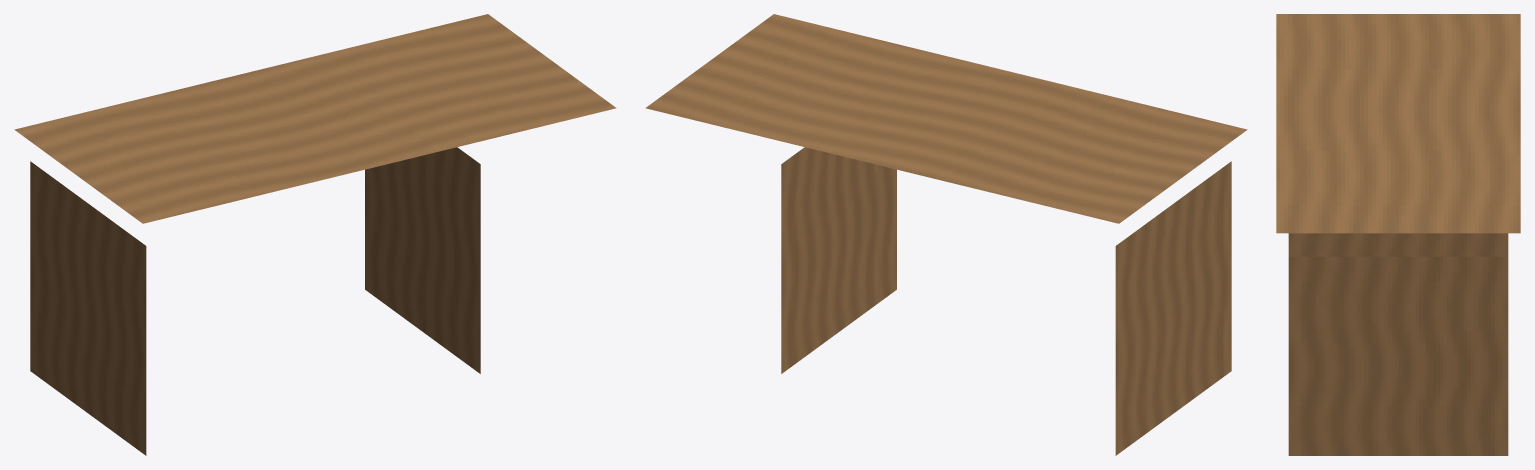
3 views of the same model, side by side, from view 1: azimuth 30°, elevation 25°; view 2: azimuth 150°, elevation 25°; view 3: azimuth 270°, elevation 25° (orthographic). The views are drawn at different scales.
Parts seen in each view (by area): view 1: Stationsschreibtisch; view 2: Stationsschreibtisch; view 3: Stationsschreibtisch.
Boxes of the visible parts, bbox=[...] form: Stationsschreibtisch: bbox=[14, 14, 616, 455]; Stationsschreibtisch: bbox=[645, 14, 1247, 455]; Stationsschreibtisch: bbox=[1276, 14, 1520, 455].
Bounding box in the file's own units: 1.7 × 0.82 × 0.8.
1 material, 1 textured.
